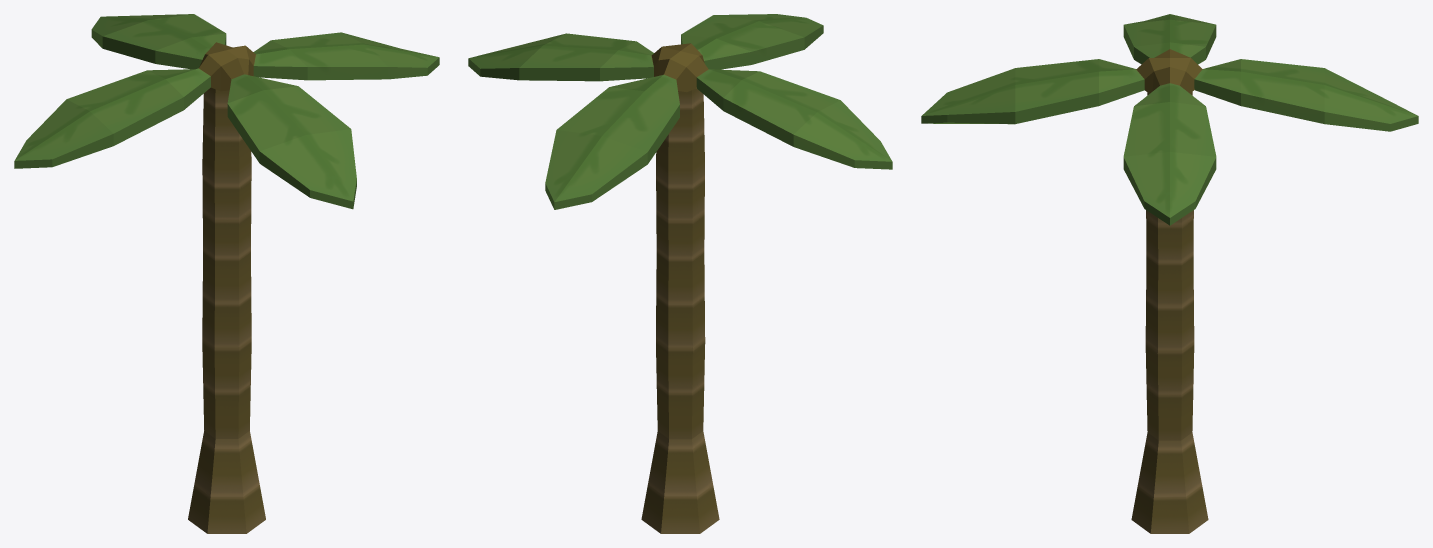
Rendered from PalmTree01.fbx.
3 views of the same model, side by side, from view 1: azimuth 30°, elevation 25°; view 2: azimuth 150°, elevation 25°; view 3: azimuth 270°, elevation 25° (orthographic).
Visible parts, largest first — view 1: PalmTree; view 2: PalmTree; view 3: PalmTree.
Part boxes in pixels (left/top/right/bottom): PalmTree: left=14, top=14, right=439, bottom=533; PalmTree: left=468, top=14, right=892, bottom=533; PalmTree: left=921, top=14, right=1418, bottom=533.
Bounding box in the file's own units: 58.05 × 61.27 × 59.76.
Materials: 1 (1 with a texture image).
